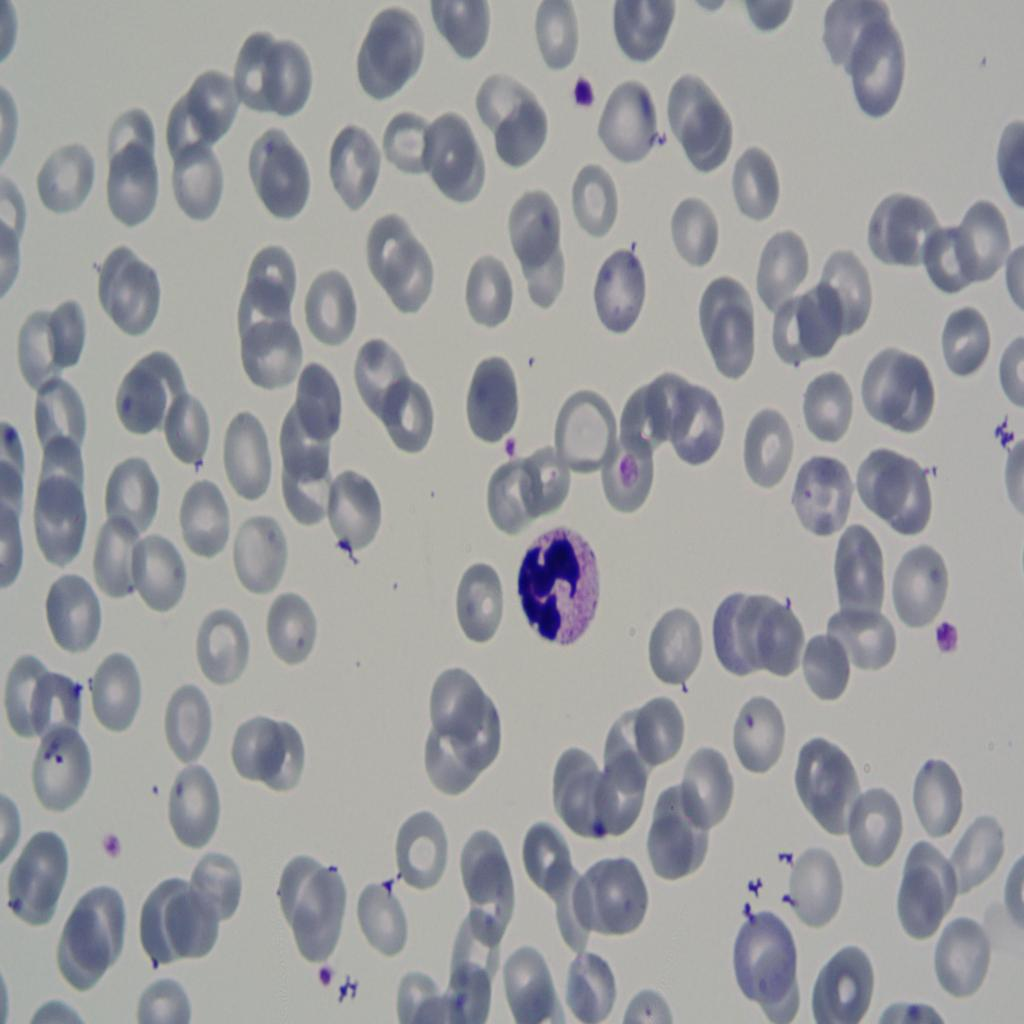Neutrofil: (514, 526, 608, 662)
Platelet: (926, 608, 974, 679), (563, 58, 597, 115), (585, 804, 613, 858), (500, 426, 532, 470), (99, 823, 122, 873)
